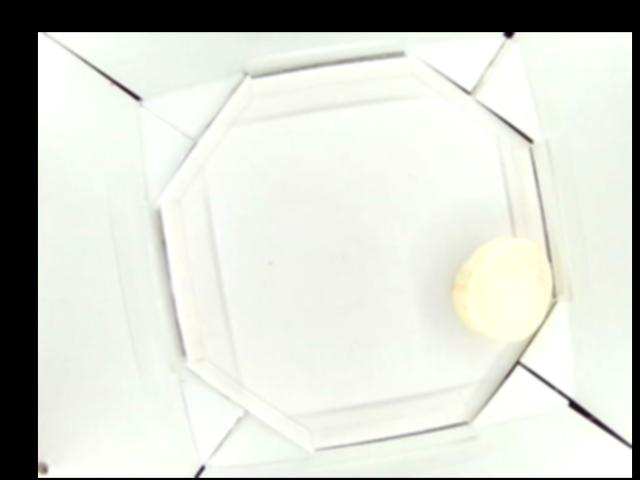Mooli: (452, 239, 557, 341)
